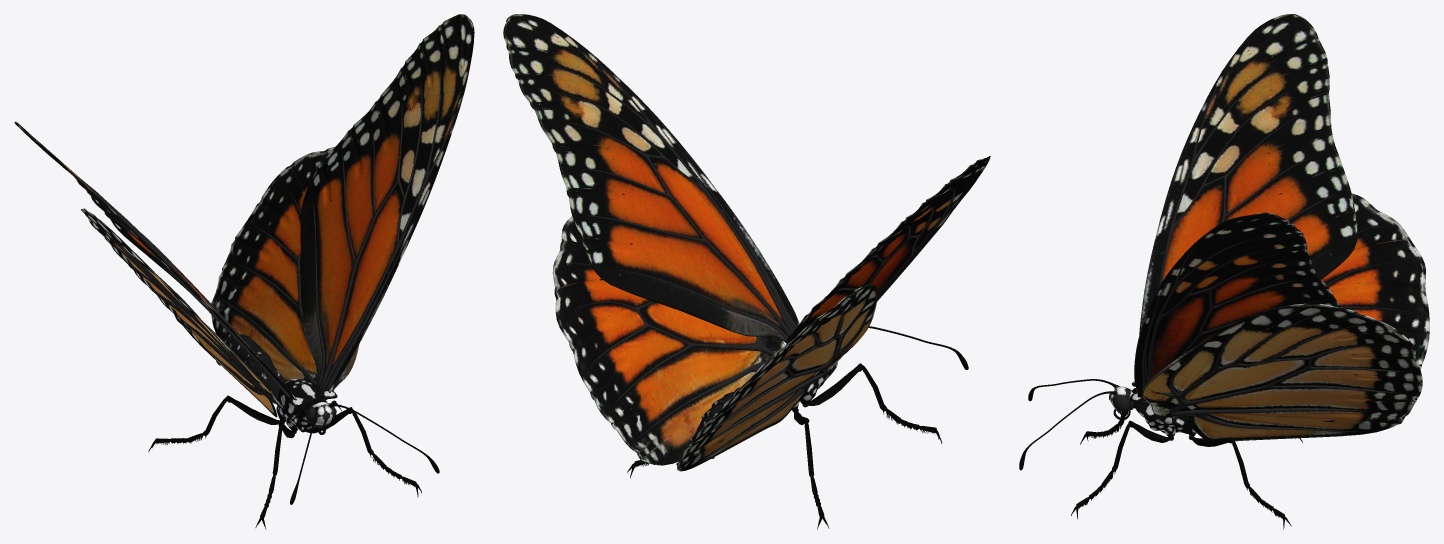
File: butterfly.glb
3 renders of one model, left to right at view 1: azimuth 30°, elevation 25°; view 2: azimuth 150°, elevation 25°; view 3: azimuth 270°, elevation 25°, orthographic. The views are drawn at different scales.
Parts seen in each view (by area): view 1: Abdomen.001_Abdomen.002; view 2: Abdomen.001_Abdomen.002; view 3: Abdomen.001_Abdomen.002.
Part boxes in pixels (x1=…): Abdomen.001_Abdomen.002: x1=14, y1=14, x2=474, y2=529; Abdomen.001_Abdomen.002: x1=503, y1=14, x2=990, y2=529; Abdomen.001_Abdomen.002: x1=1019, y1=14, x2=1429, y2=529.
Size of the model in its own units: 4.49 by 3.7 by 3.67.
2 materials, 2 textured.
